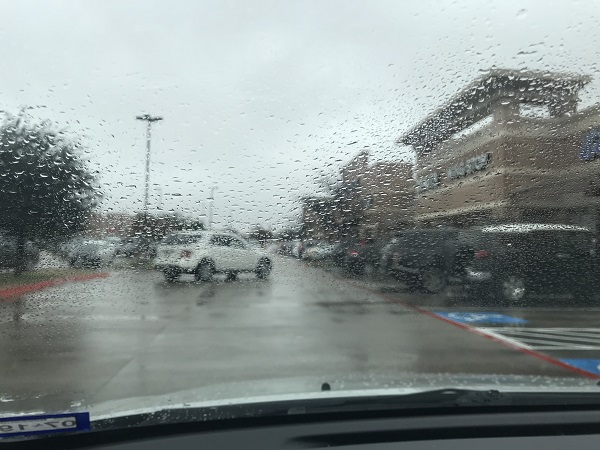car: (455, 223, 599, 301), (152, 229, 275, 284), (378, 229, 457, 292), (344, 238, 384, 273)
